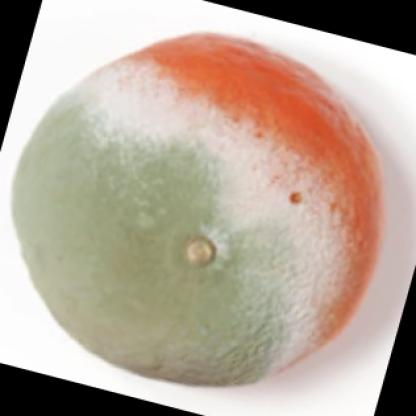rotten: (10, 32, 384, 391)
